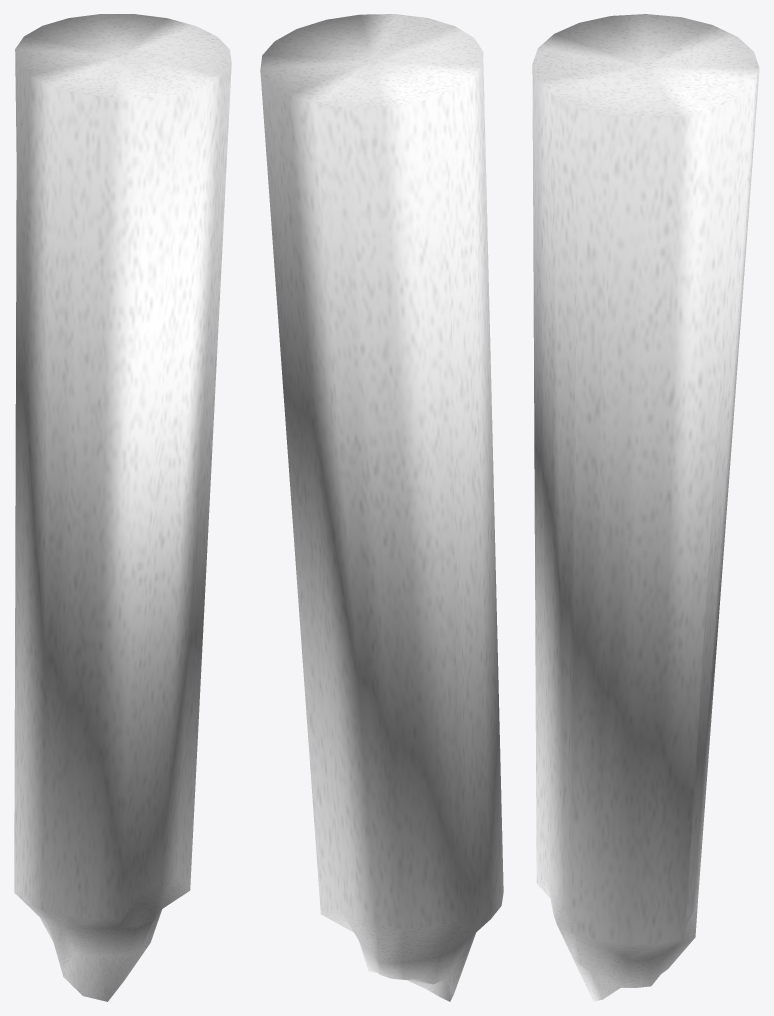
File: Asset_20_Chalk.fbx
3 views of the same model, side by side, from view 1: azimuth 30°, elevation 25°; view 2: azimuth 150°, elevation 25°; view 3: azimuth 270°, elevation 25° (orthographic). The views are drawn at different scales.
Visible parts, largest first — view 1: SK_20_Chalk; view 2: SK_20_Chalk; view 3: SK_20_Chalk.
Boxes of the visible parts, box(x1,y1,x2,y2) form: SK_20_Chalk: box(14, 14, 231, 1001); SK_20_Chalk: box(260, 14, 503, 1001); SK_20_Chalk: box(532, 14, 759, 1001).
Bounding box in the file's own units: 2.04 × 8.92 × 1.91.
